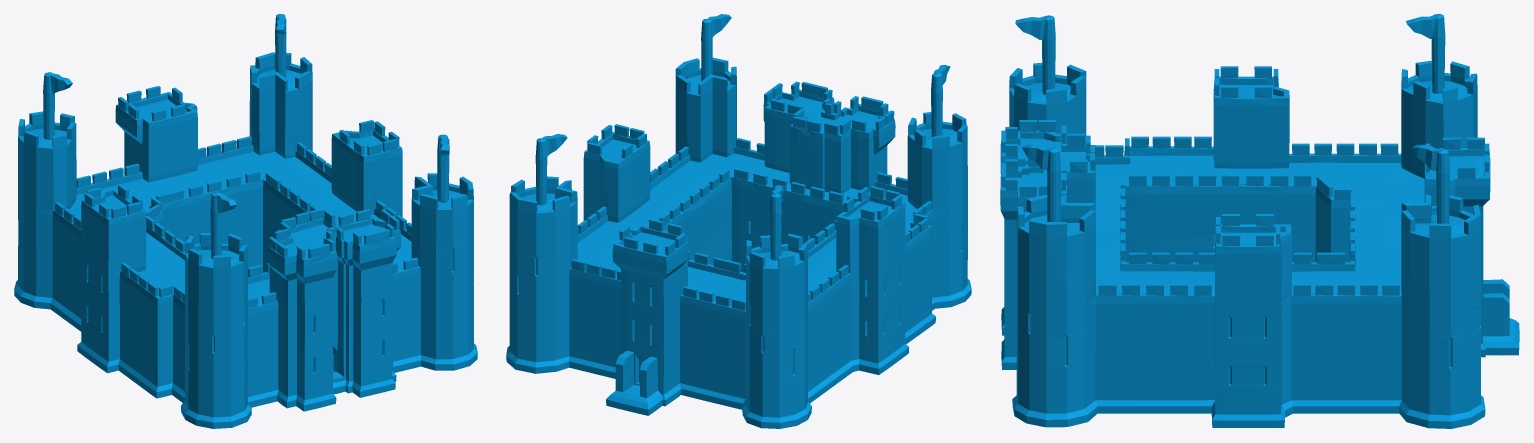
File: MedievalCastle.glb
3 views of the same model, side by side, from view 1: azimuth 30°, elevation 25°; view 2: azimuth 150°, elevation 25°; view 3: azimuth 270°, elevation 25° (orthographic). The views are drawn at different scales.
Bounding box in the file's own units: 0.4493 × 0.3139 × 0.5644.
